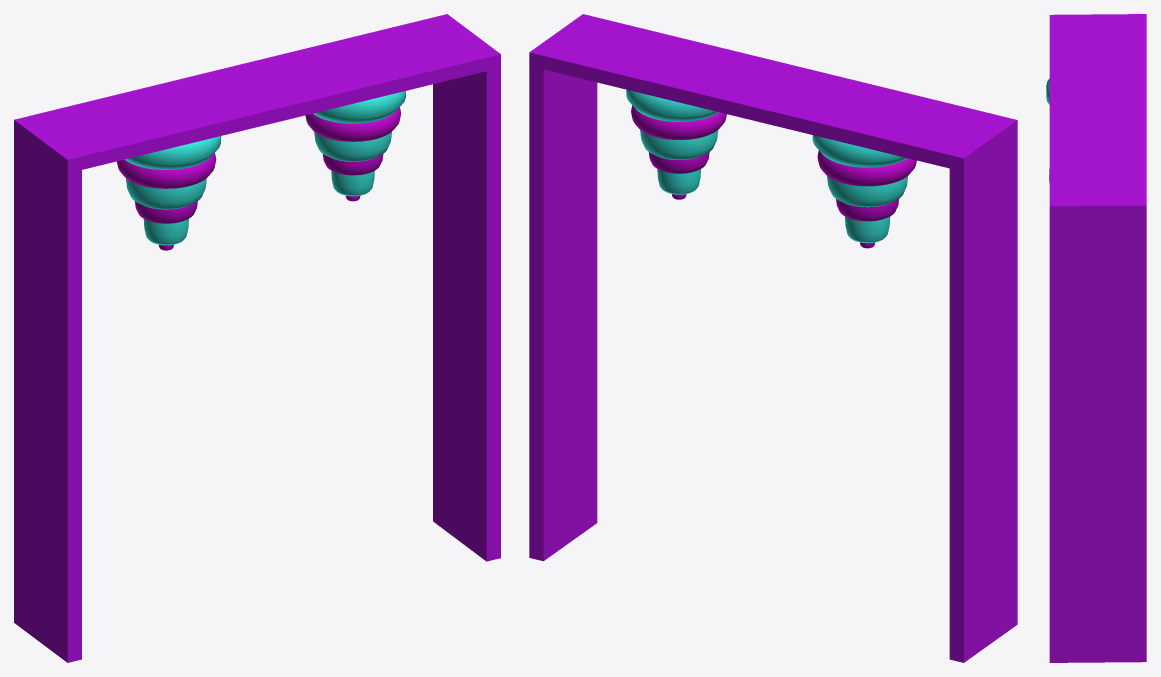
The model's file is shooting thingy.fbx.
The picture shows the model from 3 angles, left to right: view 1: azimuth 30°, elevation 25°; view 2: azimuth 150°, elevation 25°; view 3: azimuth 270°, elevation 25°; orthographic projection. The views are drawn at different scales.
Parts seen in each view (by area): view 1: Cube, Torus, Cylinder, Torus.005, Cylinder.001, Torus.001, Torus.006, Torus.003, Torus.008, Torus.002, Torus.007; view 2: Cube, Torus, Torus.005, Cylinder, Cylinder.001, Torus.001, Torus.006, Torus.003, Torus.008, Torus.002, Torus.007; view 3: Cube.
Part boxes in pixels (x1=…): Cube: x1=14, y1=14, x2=500, y2=662; Torus: x1=117, y1=153, x2=216, y2=188; Cylinder: x1=125, y1=136, x2=221, y2=169; Torus.005: x1=305, y1=107, x2=400, y2=141; Cylinder.001: x1=313, y1=91, x2=405, y2=123; Torus.001: x1=126, y1=178, x2=206, y2=209; Torus.006: x1=314, y1=131, x2=391, y2=161; Torus.003: x1=143, y1=219, x2=188, y2=245; Torus.008: x1=331, y1=170, x2=374, y2=196; Torus.002: x1=135, y1=201, x2=197, y2=223; Torus.007: x1=323, y1=154, x2=383, y2=175; Cube: x1=529, y1=14, x2=1017, y2=662; Torus: x1=817, y1=150, x2=916, y2=186; Torus.005: x1=631, y1=105, x2=726, y2=139; Cylinder: x1=812, y1=135, x2=907, y2=167; Cylinder.001: x1=626, y1=89, x2=718, y2=121; Torus.001: x1=827, y1=176, x2=907, y2=207; Torus.006: x1=640, y1=130, x2=718, y2=159; Torus.003: x1=845, y1=216, x2=890, y2=243; Torus.008: x1=657, y1=169, x2=700, y2=194; Torus.002: x1=836, y1=199, x2=898, y2=221; Torus.007: x1=648, y1=152, x2=709, y2=173; Cube: x1=1049, y1=14, x2=1146, y2=662.
Size of the model in its own units: 444 by 494 by 98.41.
